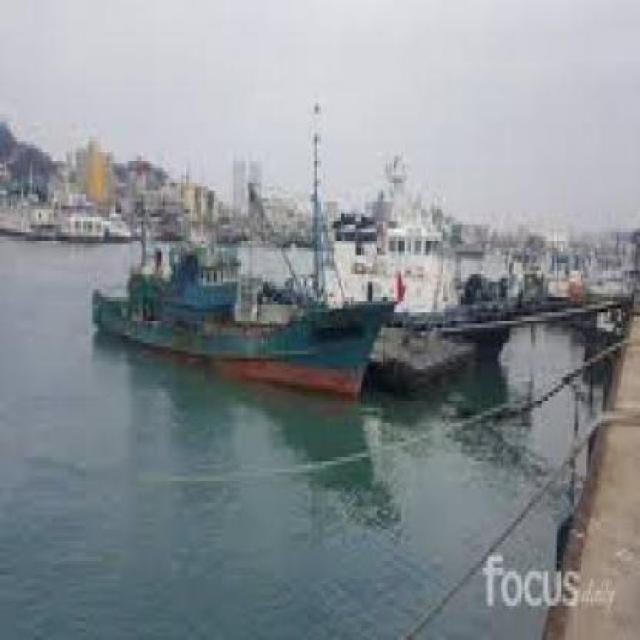Ship: (76, 172, 410, 425)
